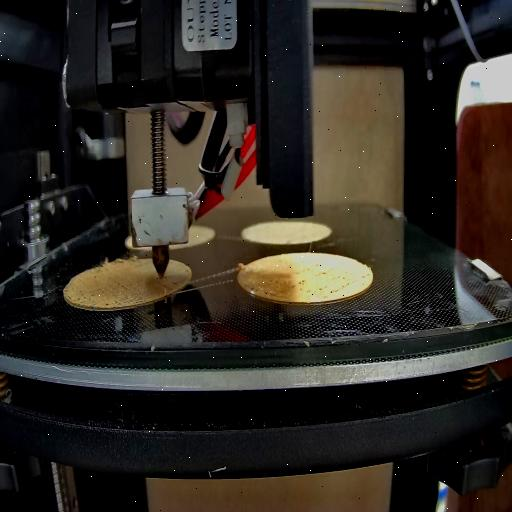under_extrusion: (288, 264, 370, 300), (62, 280, 112, 310), (247, 278, 275, 302)
